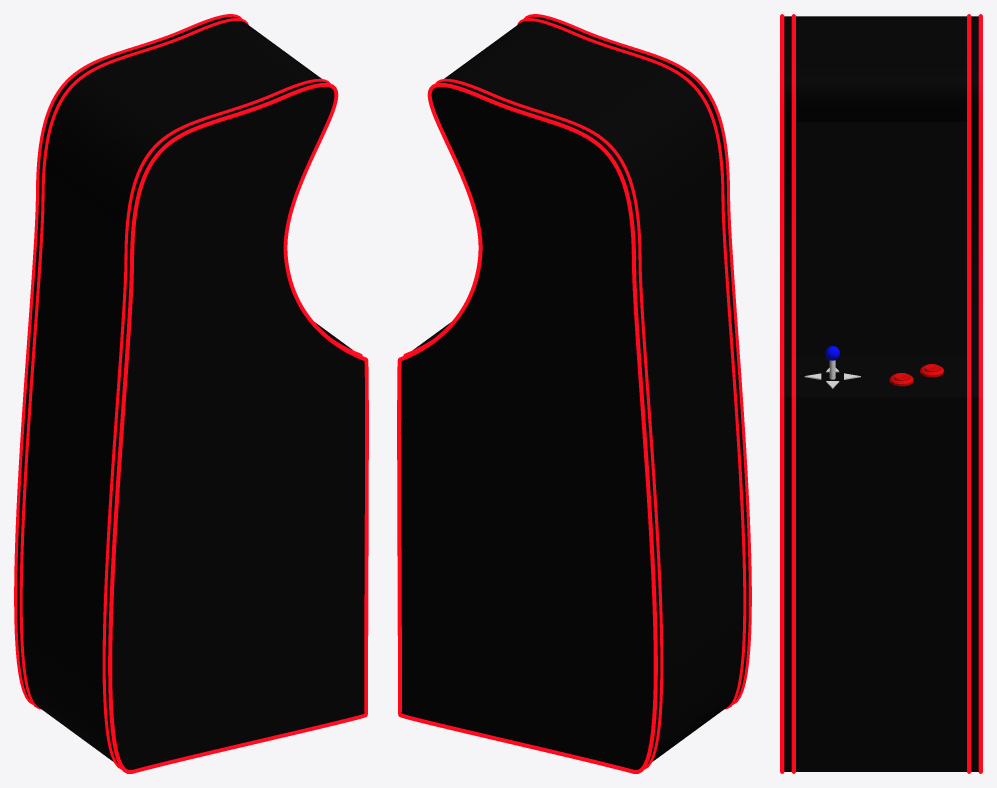
The model's file is arcade.fbx.
The picture shows the model from 3 angles, left to right: view 1: azimuth 30°, elevation 25°; view 2: azimuth 150°, elevation 25°; view 3: azimuth 270°, elevation 25°; orthographic projection. The views are drawn at different scales.
Parts seen in each view (by area): view 1: PlacaLeft, BezierCurve.003, LedsLeft, LedsRight, PlacaRight; view 2: PlacaRight, BezierCurve.003, LedsRight, LedsLeft, PlacaLeft; view 3: BezierCurve.003, LedsLeft, LedsRight, PlacaLeft, PlacaRight.
Boxes of the visible parts, <box> form: PlacaLeft: <box>105,81,364,769</box>; BezierCurve.003: <box>22,21,352,761</box>; LedsLeft: <box>102,78,368,773</box>; LedsRight: <box>14,14,248,709</box>; PlacaRight: <box>17,16,237,699</box>; PlacaRight: <box>401,81,660,769</box>; BezierCurve.003: <box>413,21,743,761</box>; LedsRight: <box>397,78,663,773</box>; LedsLeft: <box>517,14,751,709</box>; PlacaLeft: <box>528,16,748,699</box>; BezierCurve.003: <box>796,16,966,771</box>; LedsLeft: <box>780,14,795,773</box>; LedsRight: <box>967,14,982,773</box>; PlacaLeft: <box>784,16,791,771</box>; PlacaRight: <box>971,16,978,771</box>.
Size of the model in its own units: 146 by 346 by 93.45.
